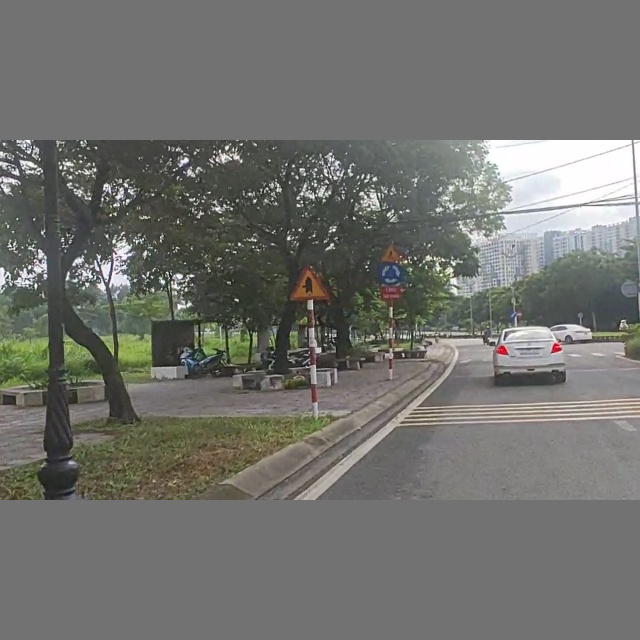P.102: (516, 311, 523, 317)
R.302a: (509, 311, 516, 319)
R.303: (379, 263, 402, 285)
W.207: (289, 265, 331, 303)
W.224: (380, 243, 401, 263)
